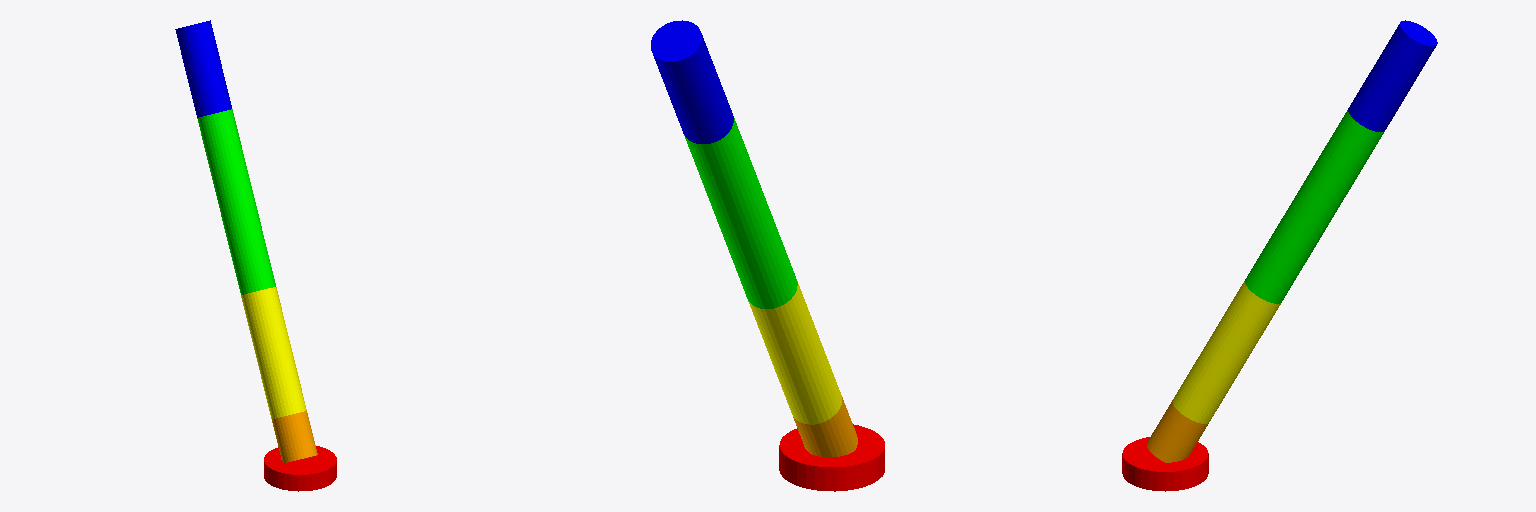
robot.urdf — 4dof:
<robot name="4dof">
	<material name="white">
		<color rgba="1 1 1 1"/>
	</material>
	<material name="red">
		<color rgba="1 0 0 1"/>
	</material>
	<material name="yellow">
		<color rgba="1 1 0 1"/>
	</material>
	<material name="orange">
		<color rgba="1 0.647 0 1"/>
	</material>
	<material name="green">
		<color rgba="0 1 0 1"/>
	</material>
	<material name="blue">
		<color rgba="0 0 1 1"/>
	</material>
	<material name="black">
		<color rgba="0 0 0 1"/>
	</material>

    <link name="world"/>
    <link name="base">
		<visual>
			<geometry>
				<cylinder length="0.05" radius="0.1"/>
			</geometry>
			<material name="red"/>
			<origin xyz="0 0 0.025" rpy="0 0 0"/> 
		</visual>
		<collision>
			<geometry>
				<cylinder length="0.05" radius="0.1"/>
			</geometry>
			<origin xyz="0 0 0.025" rpy="0 0 0"/> 
		</collision>
		<!-- Check intertial values-->
		<inertial>
			<mass value="1.0"/>
			<origin xyz="0 0 1" rpy="0 0 0" />
			<inertia ixx="0.0027" iyy="0.0027" izz="0.005" ixy="0" ixz="0" iyz="0"/>
		</inertial>	
	</link>

    <joint name="r_axis" type="revolute">
		<parent link="world"/>
		<child link="base"/>
		<origin xyz="0 0 0"	rpy="0 0 0"/>
		<axis xyz="0 0 1"/>
		<limit lower="-3.1415926536" upper="3.1415926536" effort="0" velocity="0.174533"/>
	</joint>

	<link name="arm_section_1">
		<visual>
			<geometry>
				<cylinder length="0.125" radius="0.05"/>
			</geometry>
			<material name="orange"/>
			<origin xyz="0 0 0.0625" rpy="0 0 0" /> 
		</visual>
		<collision>
			<geometry>
				<cylinder length="0.125" radius="0.05"/>
			</geometry>
			<origin xyz="0 0 0.0625" rpy="0 0 0"/> 
		</collision>
		<!-- Check intertial values-->
		<inertial>
			<mass value="1.0"/>
			<origin xyz="0 0 1" rpy="0 0 0" />
			<inertia ixx="0.0027" iyy="0.0027" izz="0.005" ixy="0" ixz="0" iyz="0"/>
		</inertial>
	</link>

    <joint name="base_to_arm_section_1" type="fixed">
		<parent link="base"/>
		<child link="arm_section_1"/>
		<origin xyz="0 0 0.05"	rpy="-0.5 0 0"/>
	</joint>

	<link name="arm_section_2">
		<visual>
			<geometry>
				<cylinder length="0.35" radius="0.05"/>
			</geometry>
			<material name="yellow"/>
			<origin xyz="0 0 0.175" rpy="0 0 0"/> 
		</visual>
		<collision>
			<geometry>
				<cylinder length="0.5" radius="0.05"/>
			</geometry>
			<origin xyz="0 0 0.175" rpy="0 0 0"/> 
		</collision>
		<!-- Check intertial values-->
		<inertial>
			<mass value="1.0"/>
			<origin rpy="0 0 0" xyz="0 0 1"/>
			<inertia ixx="0.0027" iyy="0.0027" izz="0.005" ixy="0" ixz="0" iyz="0"/>
		</inertial>
	</link>

    <joint name="a_axis" type="revolute">
		<parent link="arm_section_1"/>
		<child link="arm_section_2"/>
		<origin xyz="0 0 0.125" rpy="0 0 0"/>
		<axis xyz="1 0 0"/>
		<limit lower="-1.047" upper="1.39626" effort="0" velocity="0.174533"/>
	</joint>

	<link name="arm_section_3">
		<visual>
			<geometry>
				<cylinder length="0.5" radius="0.05"/>
			</geometry>
			<material name="green"/>
			<origin xyz="0 0 0.25" rpy="0 0 0"/> 
		</visual>
		<collision>
			<geometry>
				<cylinder length="0.5" radius="0.05"/>
			</geometry>
			<origin xyz="0 0 0.25" rpy="0 0 0"/> 
		</collision>
		<!-- Check intertial values-->
		<inertial>
			<mass value="1.0"/>
			<origin rpy="0 0 0" xyz="0 0 1"/>
			<inertia ixx="0.0027" iyy="0.0027" izz="0.005" ixy="0" ixz="0" iyz="0"/>
		</inertial>
	</link>

    <joint name="b_axis" type="revolute">
		<parent link="arm_section_2"/>
		<child link="arm_section_3"/>
		<origin xyz="0 0 0.35" rpy="0 0 0"/>
		<axis xyz="1 0 0"/>
		<limit lower="0" upper="2.79253" effort="0" velocity="0.174533"/>
	</joint>

	<link name="arm_section_4">
		<visual>
			<geometry>
				<cylinder length="0.25" radius="0.05"/>
			</geometry>
			<material name="blue"/>
			<origin xyz="0 0 0.125" rpy="0 0 0"/> 
		</visual>
		<collision>
			<geometry>
				<cylinder length="0.25" radius="0.05"/>
			</geometry>
			<origin xyz="0 0 0.125" rpy="0 0 0"/> 
		</collision>
		<!-- Check intertial values-->
		<inertial>
			<mass value="1.0"/>
			<origin rpy="0 0 0" xyz="0 0 1"/>
			<inertia ixx="0.0027" iyy="0.0027" izz="0.005" ixy="0" ixz="0" iyz="0"/>
		</inertial>
	</link>

    <joint name="c_axis" type="revolute">
		<parent link="arm_section_3"/>
		<child link="arm_section_4"/>
		<origin xyz="0 0 0.5" rpy="0 0 0"/>
		<axis xyz="1 0 0"/>
		<limit lower="-1.570796" upper="1.570796" effort="0" velocity="0.174533"/>
	</joint>



</robot>

--- Render facts (derived) ---
Views: 3 orthographic renders of the robot side by side, from view 1: azimuth 30°, elevation 25°; view 2: azimuth 150°, elevation 25°; view 3: azimuth 270°, elevation 25°.
Model 4dof with 6 links and 5 joints (4 revolute, 1 fixed), rooted at world, posed every joint at zero.
Links seen in each view (by area): view 1: arm_section_3, arm_section_2, arm_section_4, base, arm_section_1; view 2: arm_section_3, arm_section_2, arm_section_4, base, arm_section_1; view 3: arm_section_3, arm_section_2, arm_section_4, base, arm_section_1.
Link boxes in pixels (x1,y1,x2,y2): arm_section_3: (197,109,275,294); arm_section_2: (241,287,306,418); arm_section_4: (175,20,231,117); base: (264,446,336,491); arm_section_1: (272,411,317,462); arm_section_3: (684,118,797,308); arm_section_2: (748,281,841,424); arm_section_4: (651,20,733,143); base: (779,424,884,491); arm_section_1: (793,397,857,456); arm_section_3: (1245,110,1384,303); arm_section_2: (1172,281,1280,423); arm_section_4: (1348,20,1437,131); base: (1122,437,1208,491); arm_section_1: (1147,400,1208,462).
Bounding box of the posed robot: 0.2 × 0.7312 × 1.15 m (x, y, z).
Geometry: primitives only (box / cylinder / sphere), no mesh files.